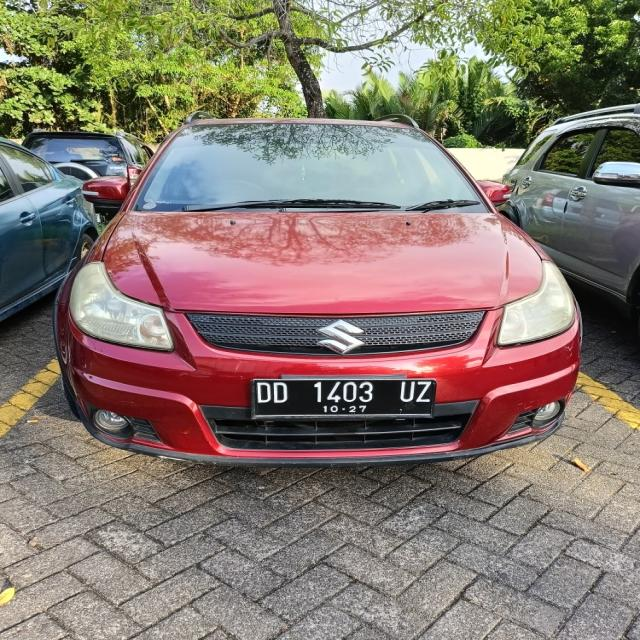plates: (258, 376, 437, 419)
